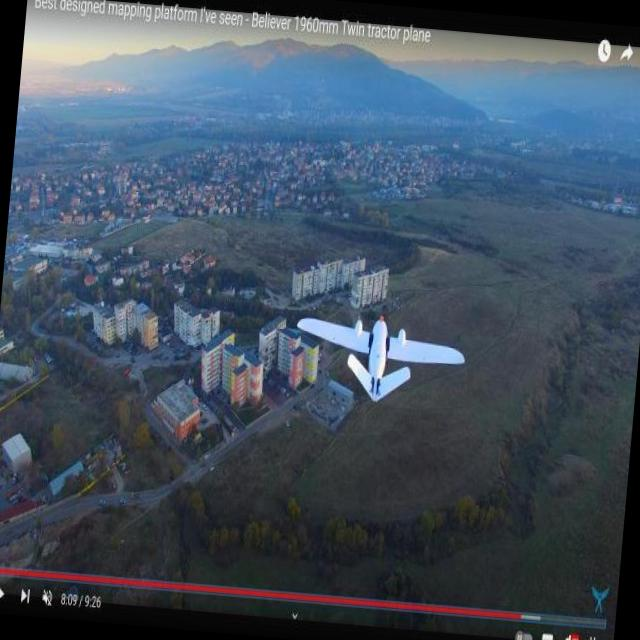UAV: (282, 296, 464, 436)
